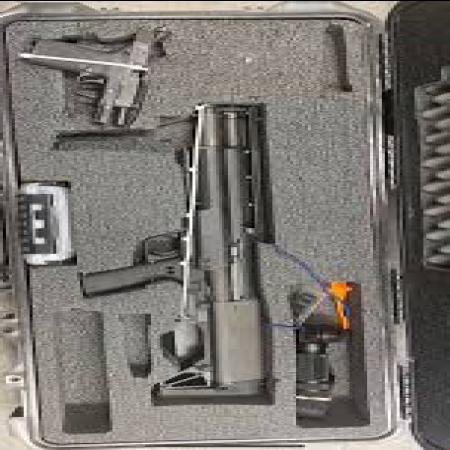2: (92, 93, 299, 408)
Pistol: (0, 13, 182, 130)
